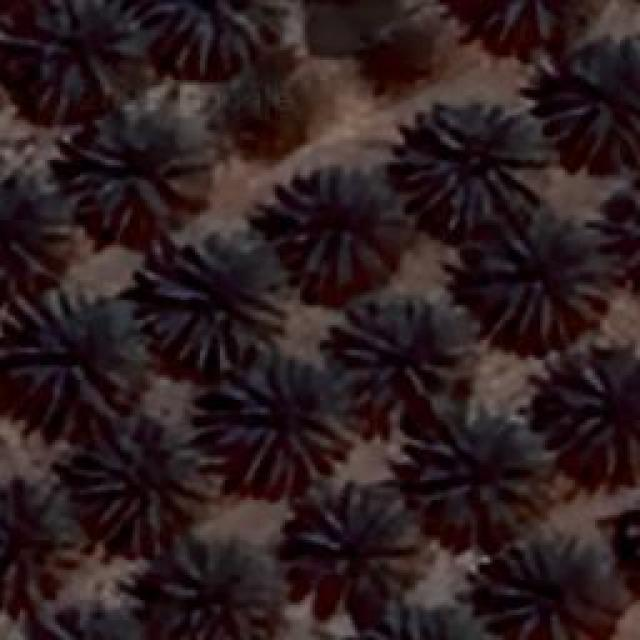PalmTree: (108, 21, 527, 620), (134, 228, 288, 370), (390, 103, 552, 230), (212, 352, 346, 492), (68, 100, 210, 232), (480, 527, 640, 640), (1, 0, 154, 115), (78, 410, 222, 532), (8, 290, 142, 420), (475, 212, 610, 338), (418, 410, 540, 522), (270, 172, 385, 288), (540, 351, 640, 484), (290, 498, 420, 598), (540, 38, 638, 168), (160, 532, 270, 638), (332, 300, 440, 402), (139, 0, 282, 72), (0, 172, 80, 296), (0, 472, 75, 592), (235, 72, 308, 152), (5, 602, 153, 640), (372, 24, 446, 94), (613, 168, 640, 287), (621, 166, 640, 284), (624, 484, 640, 596), (627, 486, 640, 594)
